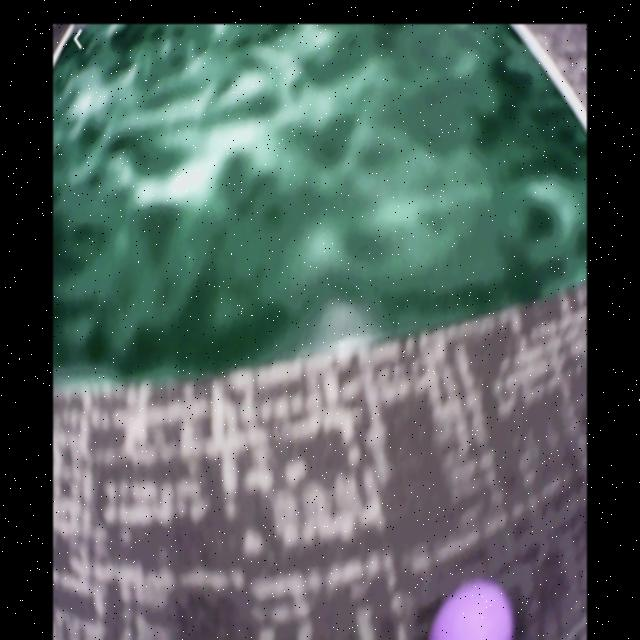ball: (431, 579, 515, 640)
